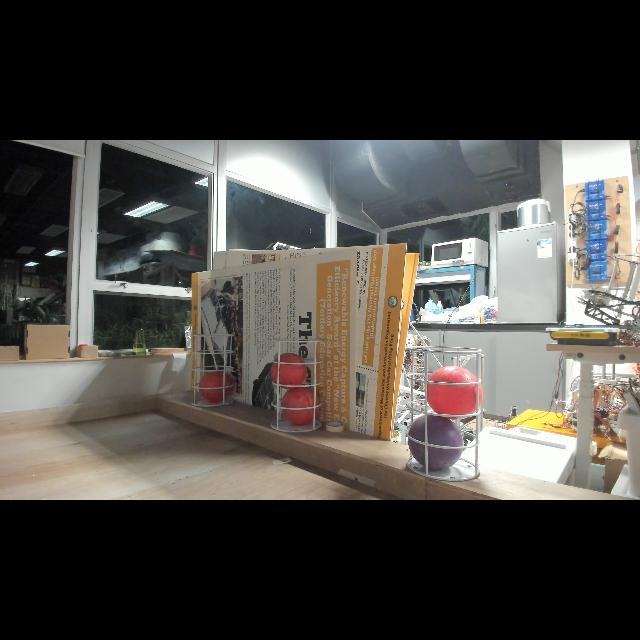P: (408, 414, 464, 472)
R: (426, 364, 484, 420), (280, 386, 322, 426), (270, 352, 308, 390), (198, 370, 234, 404)
S: (404, 346, 484, 482), (269, 336, 325, 434), (190, 334, 236, 408)
